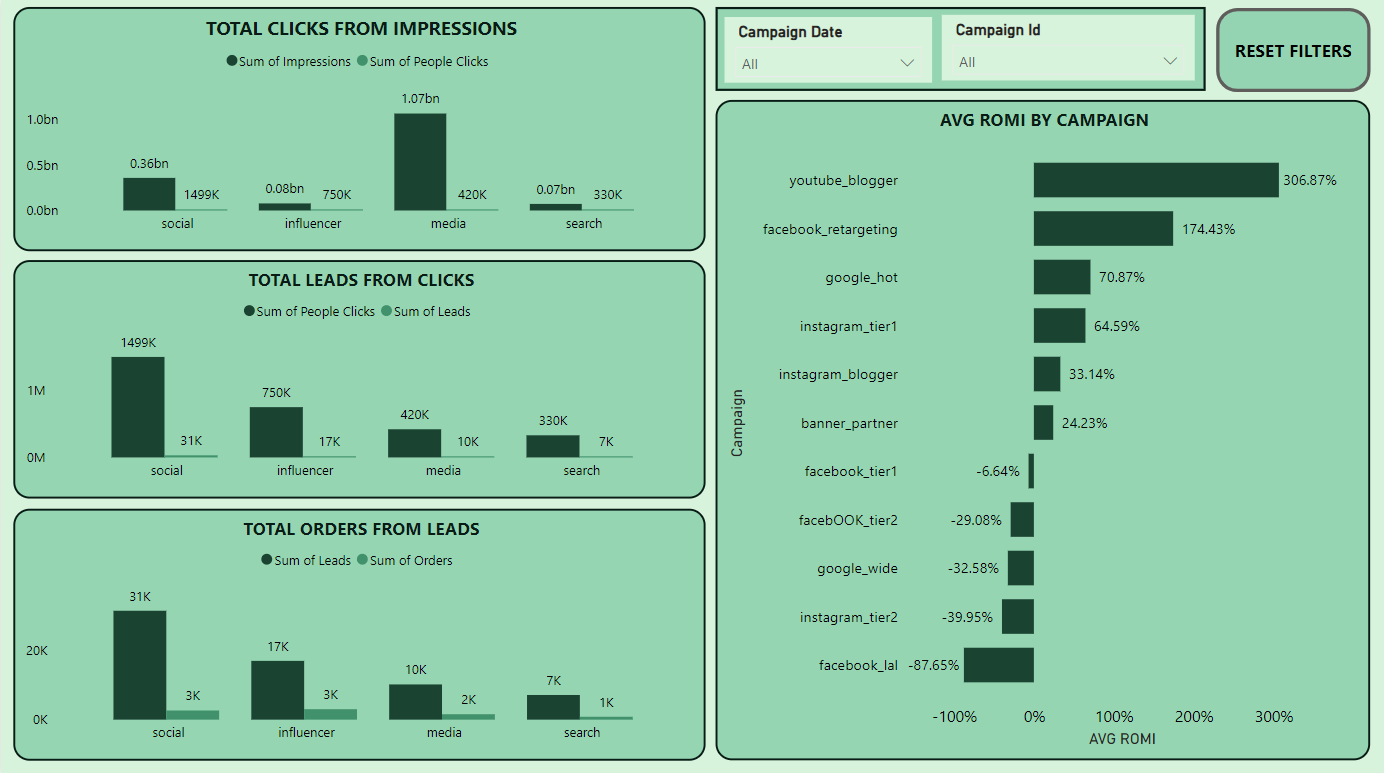

What the dashboard file says about the page in this screenshot:
{"tool":"powerbi","page":{"name":"Cost Efficiency and Profitability Dashboard","canvas":[1280,720],"ordinal":1},"visuals":[{"type":"clusteredColumnChart","title":"TOTAL CLICKS FROM IMPRESSIONS","fields":{"Category":["Digital Marketing.Category type"],"Y":["Sum(Digital Marketing.Impressions)","Sum(Digital Marketing.People Clicks)"]},"box":[11.4,8,640.4,226],"z":0},{"type":"clusteredColumnChart","title":"TOTAL ORDERS FROM LEADS","fields":{"Category":["Digital Marketing.Category type"],"Y":["Sum(Digital Marketing.Leads)","Sum(Digital Marketing.Orders)"]},"box":[11.4,472.6,640.4,232.9],"z":1000},{"type":"clusteredColumnChart","title":"TOTAL LEADS FROM CLICKS","fields":{"Category":["Digital Marketing.Category type"],"Y":["Sum(Digital Marketing.People Clicks)","Sum(Digital Marketing.Leads)"]},"box":[11.4,242,640.4,220.3],"z":2000},{"type":"shape","box":[661,8,453.2,77.6],"z":3000},{"type":"slicer","fields":{"Values":["Digital Marketing.Campaign Date"]},"box":[669,17.1,191.8,60.5],"z":4000},{"type":"slicer","fields":{"Values":["Digital Marketing.Campaign Id"]},"box":[869.9,16,234,60.5],"z":5000},{"type":"clusteredBarChart","title":"AVG ROMI BY CAMPAIGN","fields":{"Category":["Digital Marketing.Campaign Name"],"Y":["Avg(Digital Marketing.ROMI)"]},"box":[661,94.8,605,610.7],"z":6000},{"type":"actionButton","box":[1123.3,9.1,142.7,77.6],"z":7000}]}

Visuals, with their boxes in screenshot pixels (x1, y1, x2, y2), scaled from the page's 1280x720 canvas onto the 1384x773 screenshot:
"TOTAL CLICKS FROM IMPRESSIONS" clusteredColumnChart: detection(12, 9, 705, 251)
"TOTAL ORDERS FROM LEADS" clusteredColumnChart: detection(12, 507, 705, 757)
"TOTAL LEADS FROM CLICKS" clusteredColumnChart: detection(12, 260, 705, 496)
shape: detection(715, 9, 1205, 92)
slicer - Digital Marketing.Campaign Date: detection(723, 18, 931, 83)
slicer - Digital Marketing.Campaign Id: detection(941, 17, 1194, 82)
"AVG ROMI BY CAMPAIGN" clusteredBarChart: detection(715, 102, 1369, 757)
actionButton: detection(1215, 10, 1369, 93)
